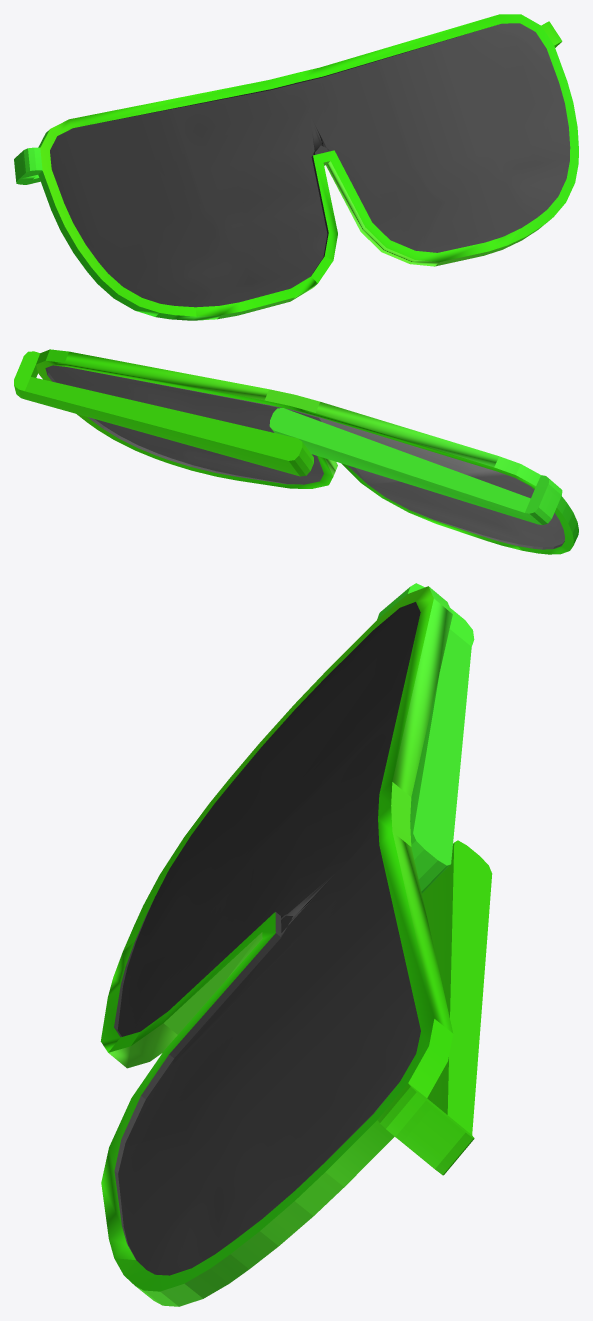
The model's file is BeachSunglassesGreen.glb.
The picture shows the model from 3 angles, top to bottom: view 1: azimuth 30°, elevation 25°; view 2: azimuth 150°, elevation 25°; view 3: azimuth 270°, elevation 25°; orthographic projection. The views are drawn at different scales.
Parts seen in each view (by area): view 1: BeachSunglassesGreen; view 2: BeachSunglassesGreen; view 3: BeachSunglassesGreen.
Part boxes in pixels (box(x1,y1,x2,y2)): BeachSunglassesGreen: box(14, 14, 578, 320); BeachSunglassesGreen: box(14, 349, 578, 554); BeachSunglassesGreen: box(100, 583, 492, 1306).
Size of the model in its own units: 0.2291 by 0.0671 by 0.0725.
Materials: 1 (1 with a texture image).
